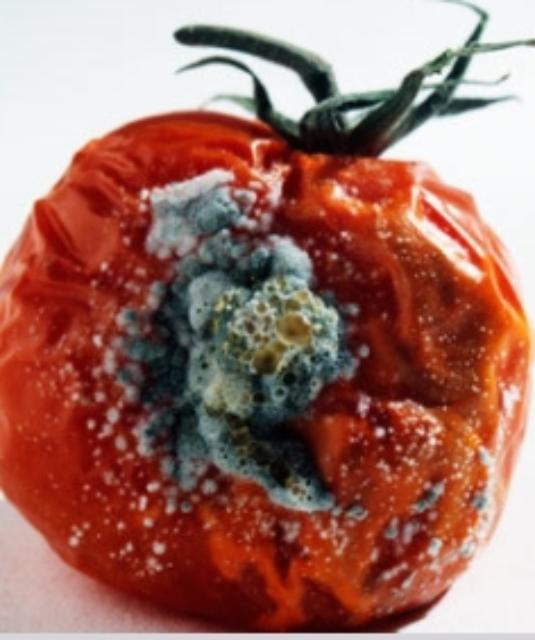defect: (4, 3, 535, 633)
